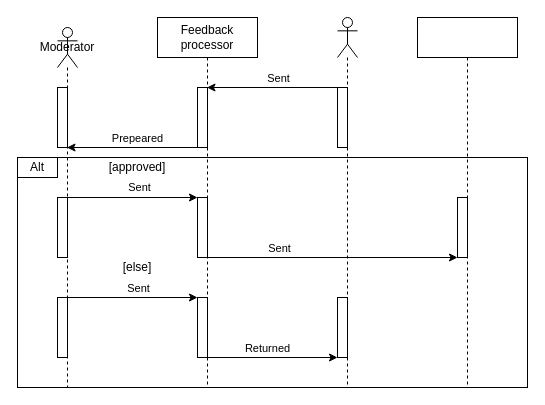
Some shapes in this 545 by 405 pixel diagram are drawn without their labels. Here are the shapes that lost their labels. From the top down, the box of each, then its label:
(336, 16, 358, 388): User
(416, 16, 518, 388): Server
